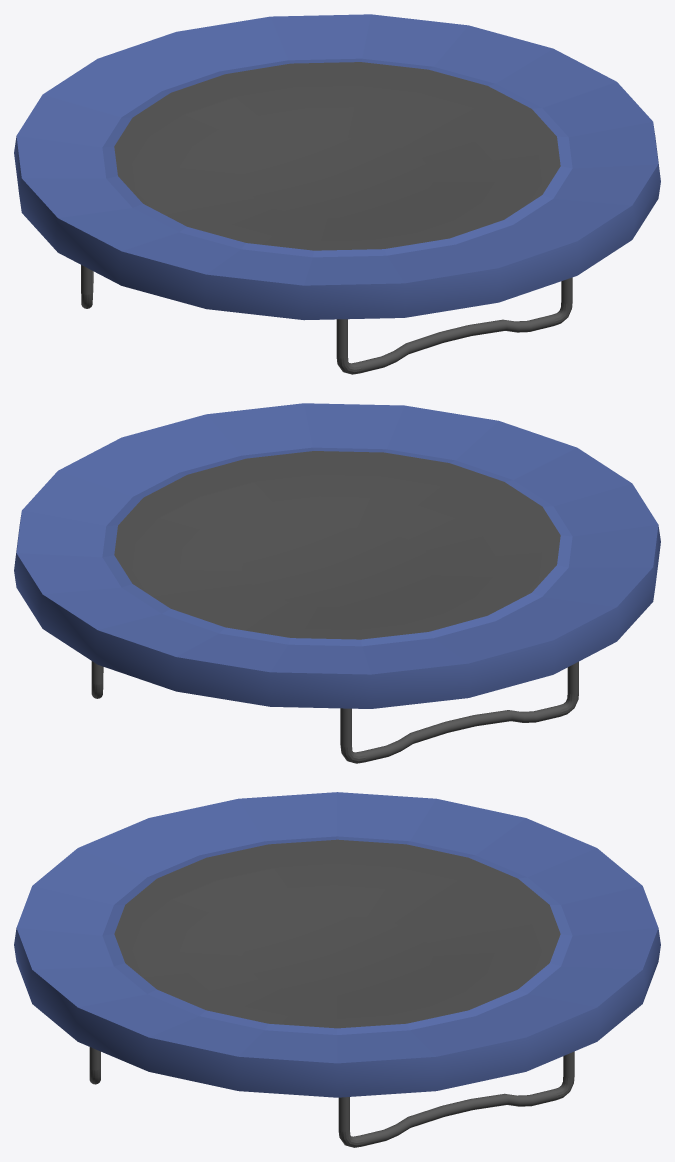
The model's file is Trampoline.fbx.
The picture shows the model from 3 angles, top to bottom: view 1: azimuth 30°, elevation 25°; view 2: azimuth 150°, elevation 25°; view 3: azimuth 270°, elevation 25°; orthographic projection.
Parts seen in each view (by area): view 1: Trampoline; view 2: Trampoline; view 3: Trampoline.
Part boxes in pixels (bbox=[...]): Trampoline: bbox=[14, 14, 660, 374]; Trampoline: bbox=[14, 403, 660, 763]; Trampoline: bbox=[14, 792, 660, 1147].
Size of the model in its own units: 344 by 63.78 by 344.
